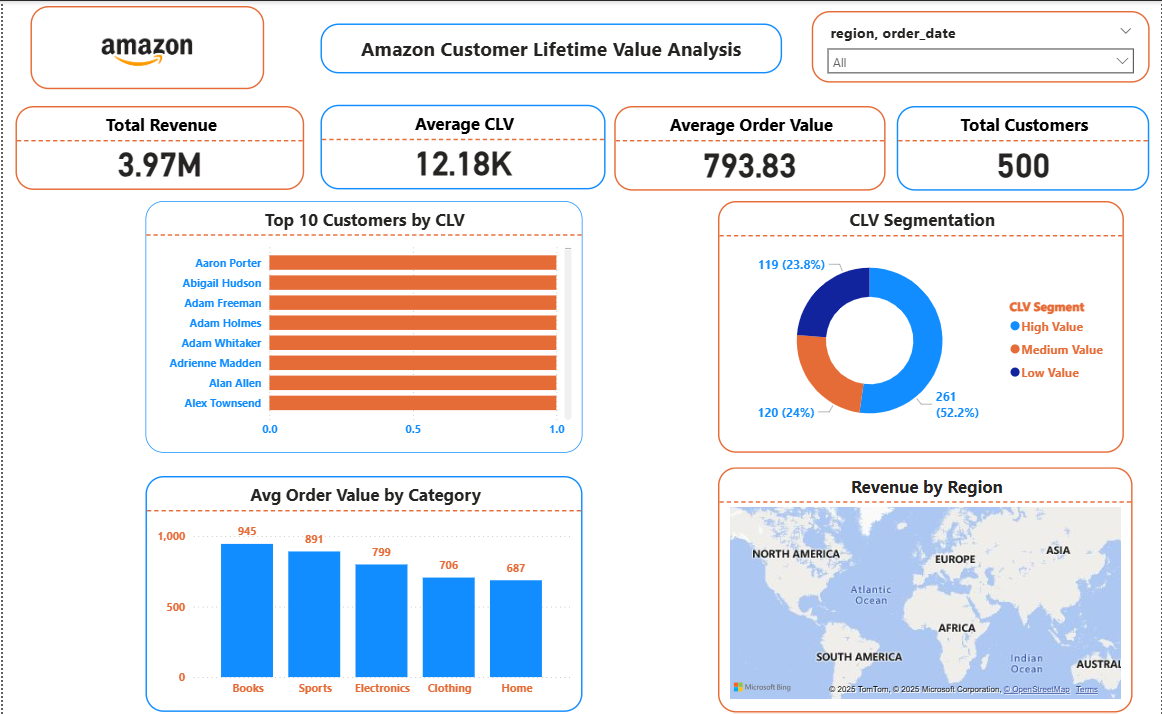

This screenshot's page, from the dashboard's own definition file:
{"tool":"powerbi","page":{"name":"Page 1","canvas":[1280,800],"ordinal":0},"visuals":[{"type":"card","title":"Total Revenue","fields":{"Values":["amazon_clv_project customer_clv.Total Revenue"]},"box":[13.8,116.1,319.3,92.6],"z":0},{"type":"card","title":"Average CLV","fields":{"Values":["amazon_clv_project customer_clv.Average CLV"]},"box":[351.1,114.7,315.1,94],"z":2},{"type":"card","title":"Average Order Value","fields":{"Values":["amazon_clv_project customer_clv.Average Order Value"]},"box":[675.9,116.1,299.9,94],"z":3},{"type":"card","title":"Total Customers","fields":{"Values":["amazon_clv_project customer_clv.Total Customers"]},"box":[988.3,116.1,279.2,94],"z":4},{"type":"barChart","title":"Top 10 Customers by CLV","fields":{"Category":["amazon_clv_project customers.name"],"Y":["amazon_clv_project customers.CLV Segment"]},"box":[157.3,220.7,483.3,278.5],"z":5},{"type":"donutChart","title":"CLV Segmentation","fields":{"Category":["amazon_clv_project customers.CLV Segment"],"Y":["amazon_clv_project customers.customer_id"]},"box":[790.6,220.7,448.7,278.5],"z":6},{"type":"filledMap","title":"Revenue by Region","fields":{"Y":["amazon_clv_project orders.price"],"X":["amazon_clv_project orders.quantity"],"Category":["amazon_clv_project customers.region"]},"box":[790.6,515.1,458.8,271.2],"z":7},{"type":"columnChart","title":"Avg Order Value by Category","fields":{"Category":["amazon_clv_project products.category"],"Y":["amazon_clv_project customer_clv.Average Order Value"]},"box":[157.3,525.2,483.3,261.1],"z":8},{"type":"textbox","box":[350.6,24.5,510.7,54.8],"z":9},{"type":"slicer","fields":{"Values":["amazon_clv_project customers.region","amazon_clv_project orders.order_date"]},"box":[894.5,11.5,373.7,79.4],"z":10},{"type":"image","box":[30.3,5.8,258.3,92.3],"z":11}]}

Visuals, with their boxes in screenshot pixels (x1, y1, x2, y2), scaled from the page's 1280x800 canvas onto the 1162x714 screenshot:
"Total Revenue" card: l=13, t=104, r=302, b=186
"Average CLV" card: l=319, t=102, r=605, b=186
"Average Order Value" card: l=614, t=104, r=886, b=188
"Total Customers" card: l=897, t=104, r=1151, b=188
"Top 10 Customers by CLV" barChart: l=143, t=197, r=582, b=446
"CLV Segmentation" donutChart: l=718, t=197, r=1125, b=446
"Revenue by Region" filledMap: l=718, t=460, r=1134, b=702
"Avg Order Value by Category" columnChart: l=143, t=469, r=582, b=702
textbox: l=318, t=22, r=782, b=71
slicer - amazon_clv_project customers.region x amazon_clv_project orders.order_date: l=812, t=10, r=1151, b=81
image: l=28, t=5, r=262, b=88
